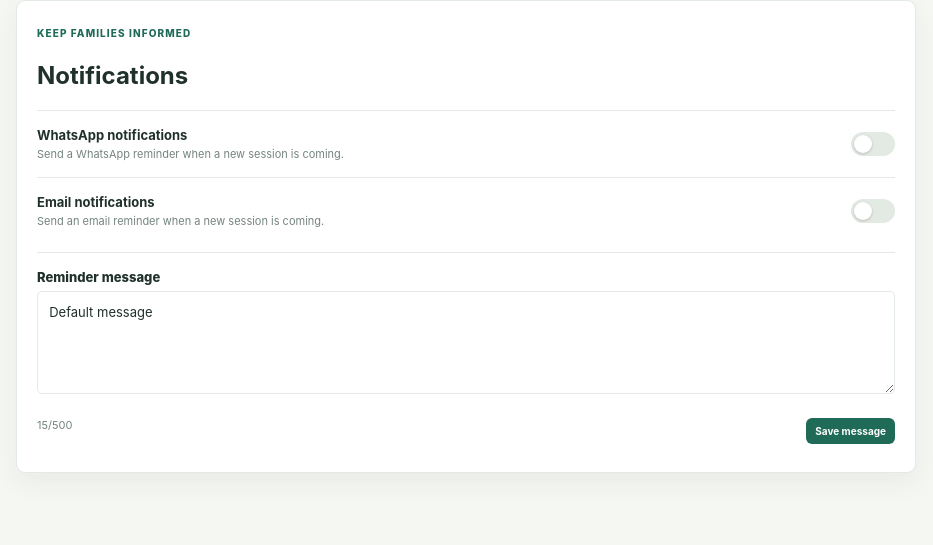
Test: stays in edit mode and keeps the text when saving fails
This screenshot has width=933, height=545.
Replace the text in the text box showing "Default message" with "My new message": {"x": 466, "y": 342} [37,291,895,394]
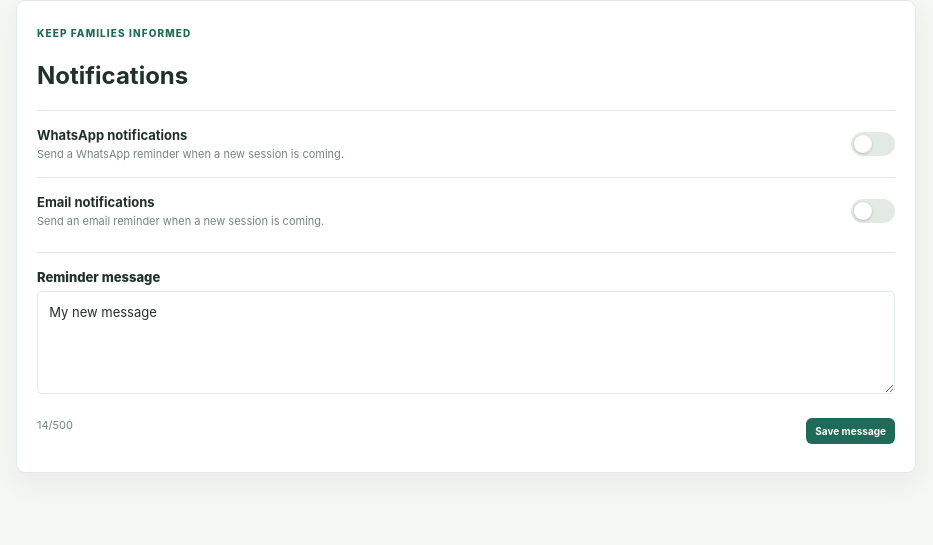
Click the button "Save message": {"x": 851, "y": 431} [806,418,895,444]
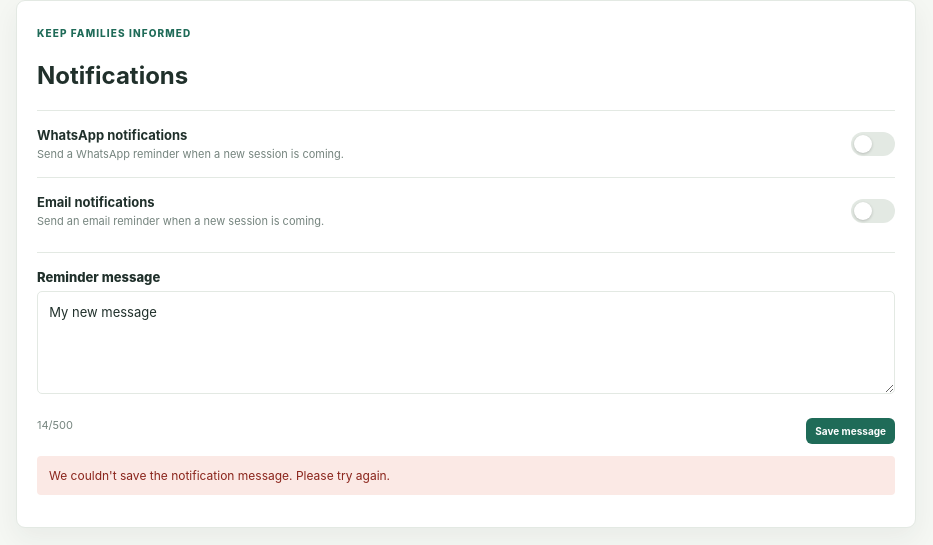
Check: the message does not show "SQLITE", box [37,456,895,495]
Check: the message reads "We couldn't save the notification message. Please try again.", box [49,468,390,483]
